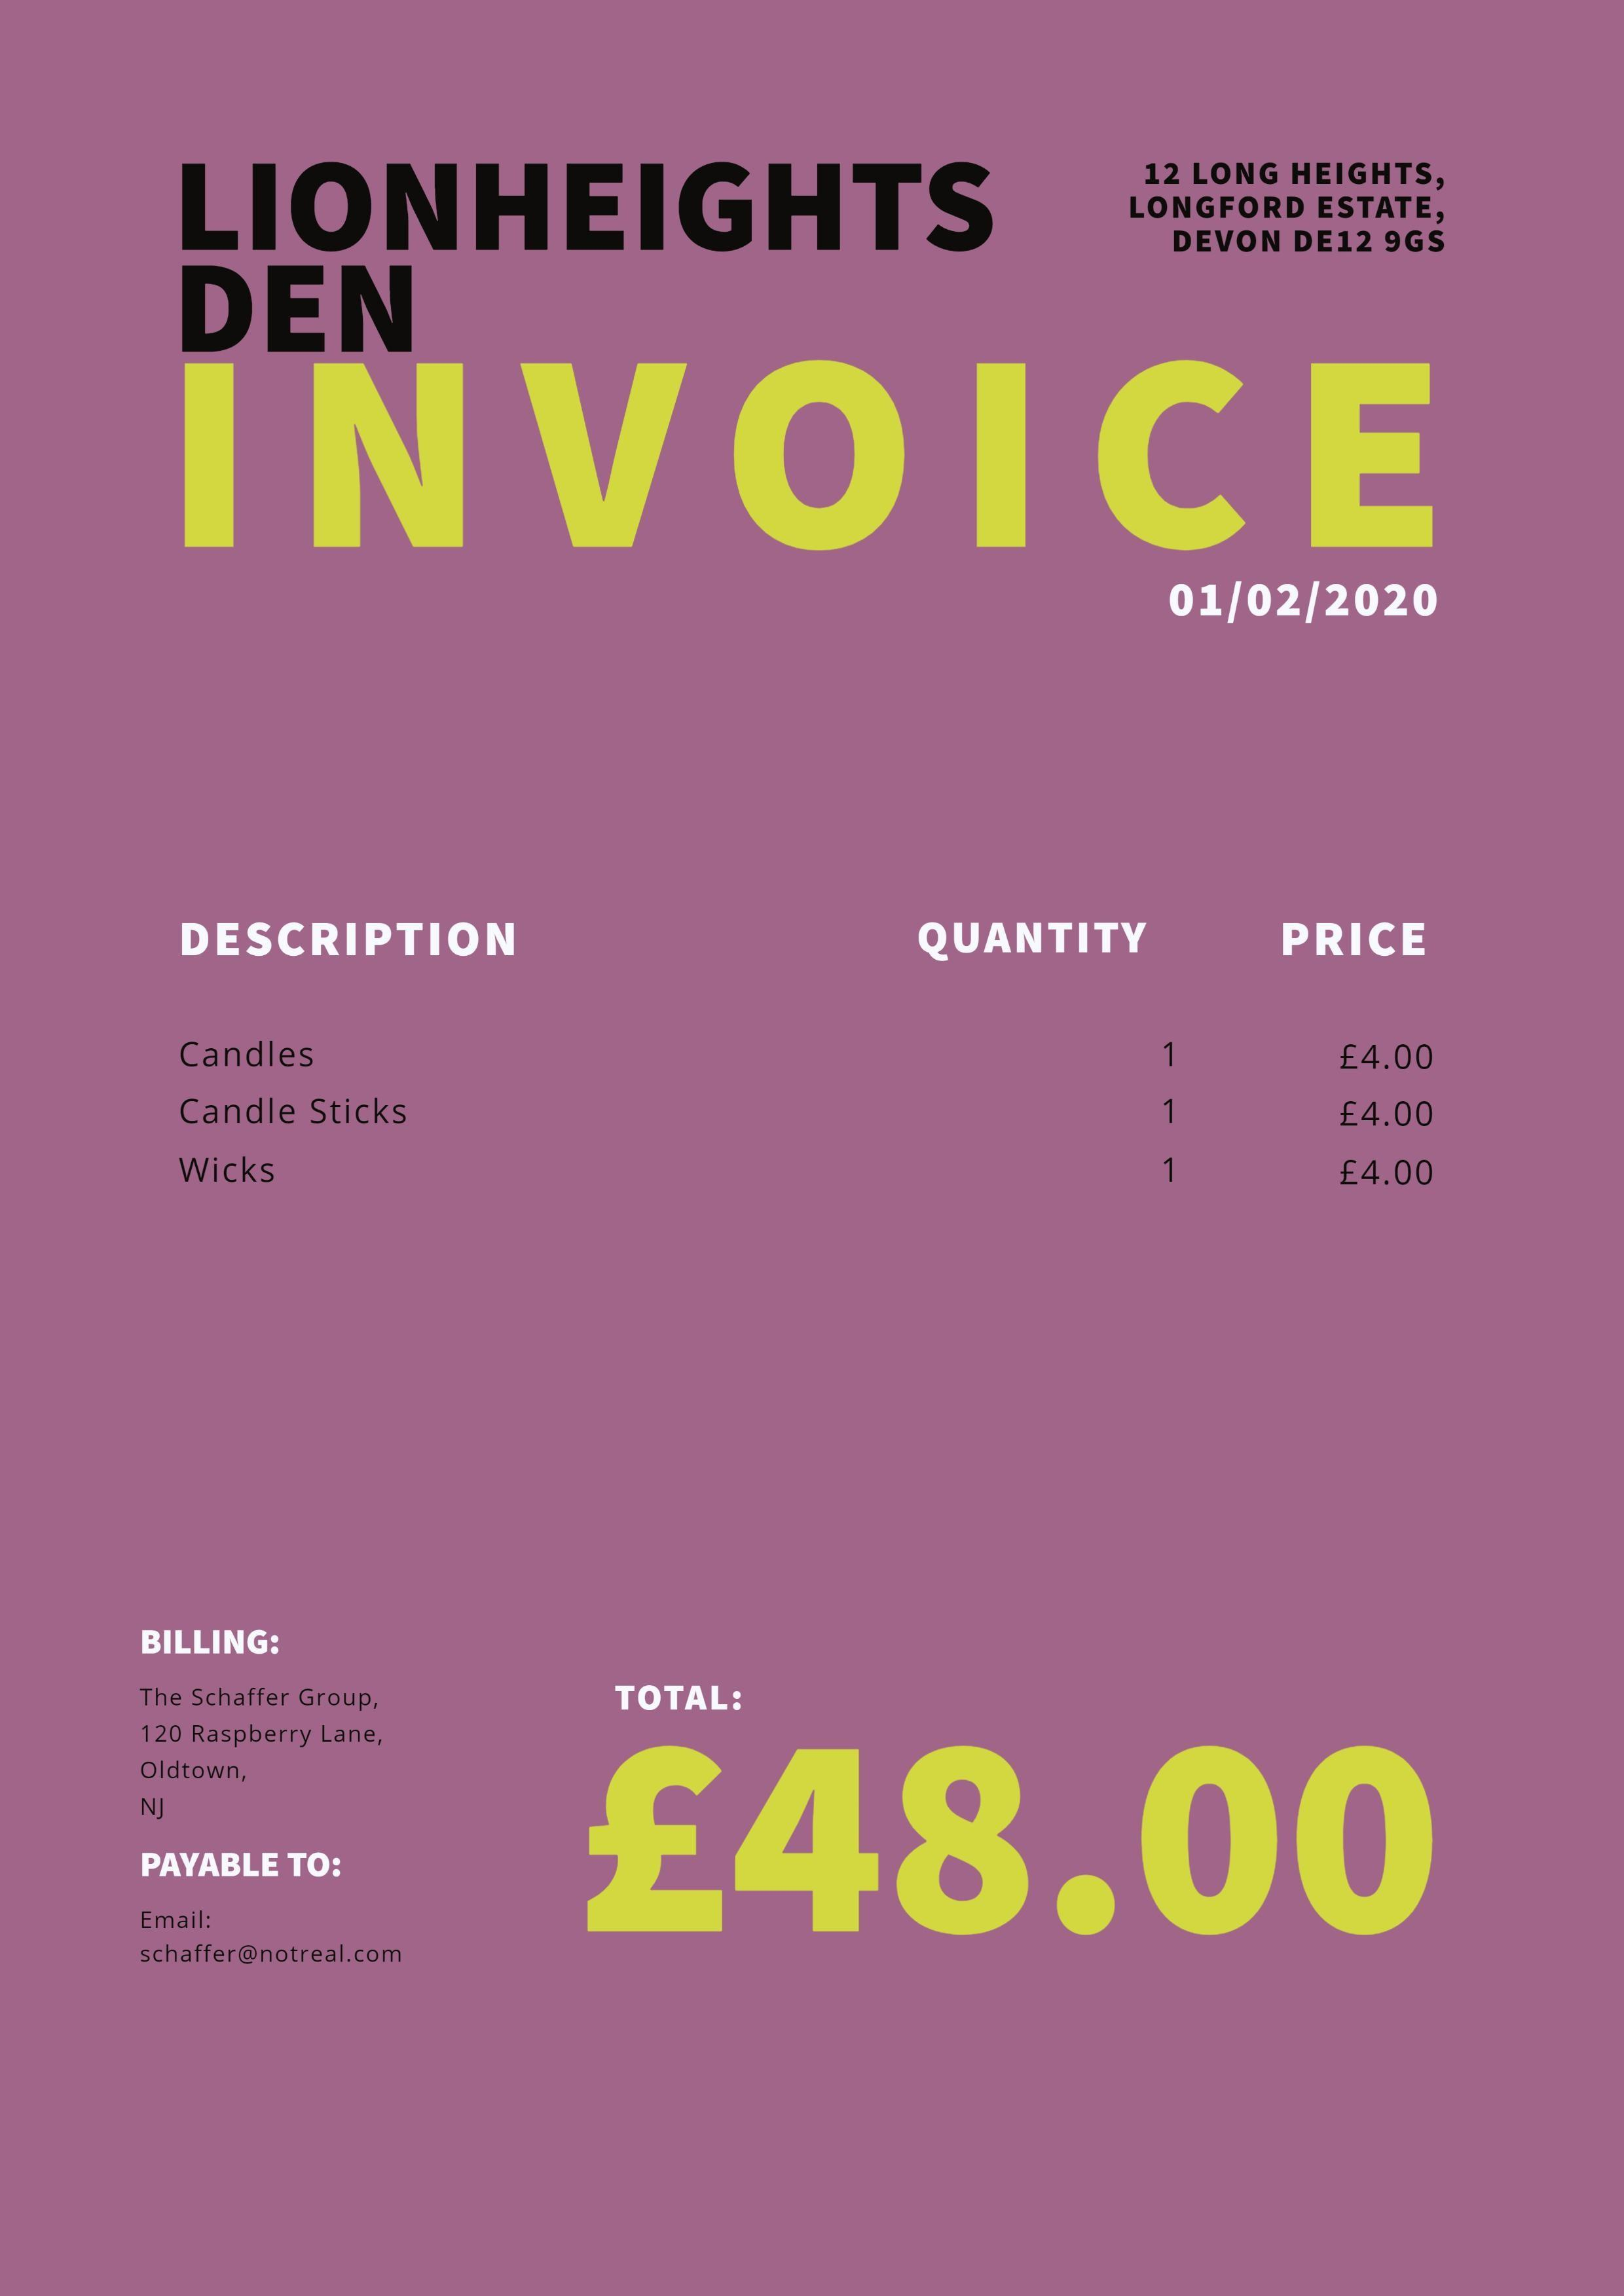ROI: (155, 910, 1478, 1195), (578, 1676, 1441, 1959), (170, 144, 1007, 357), (121, 1616, 397, 1834), (130, 1841, 429, 1967), (1151, 569, 1464, 627)
